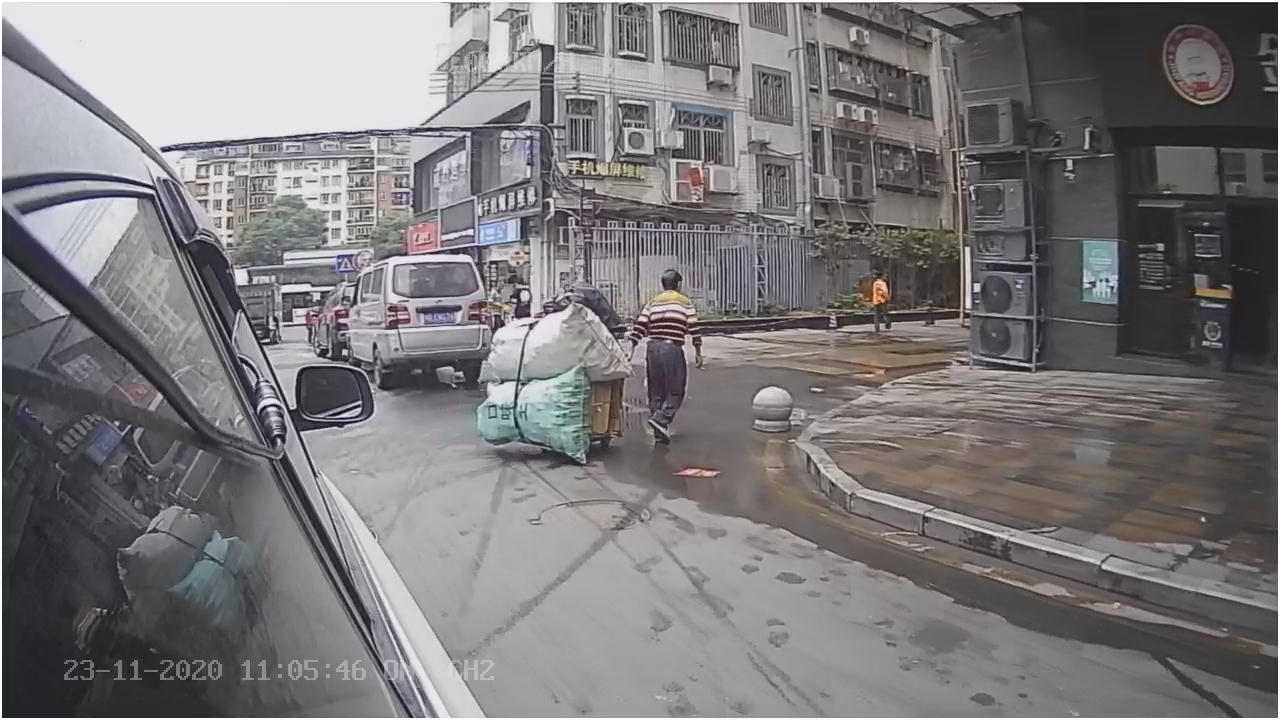person: (631, 264, 709, 444)
